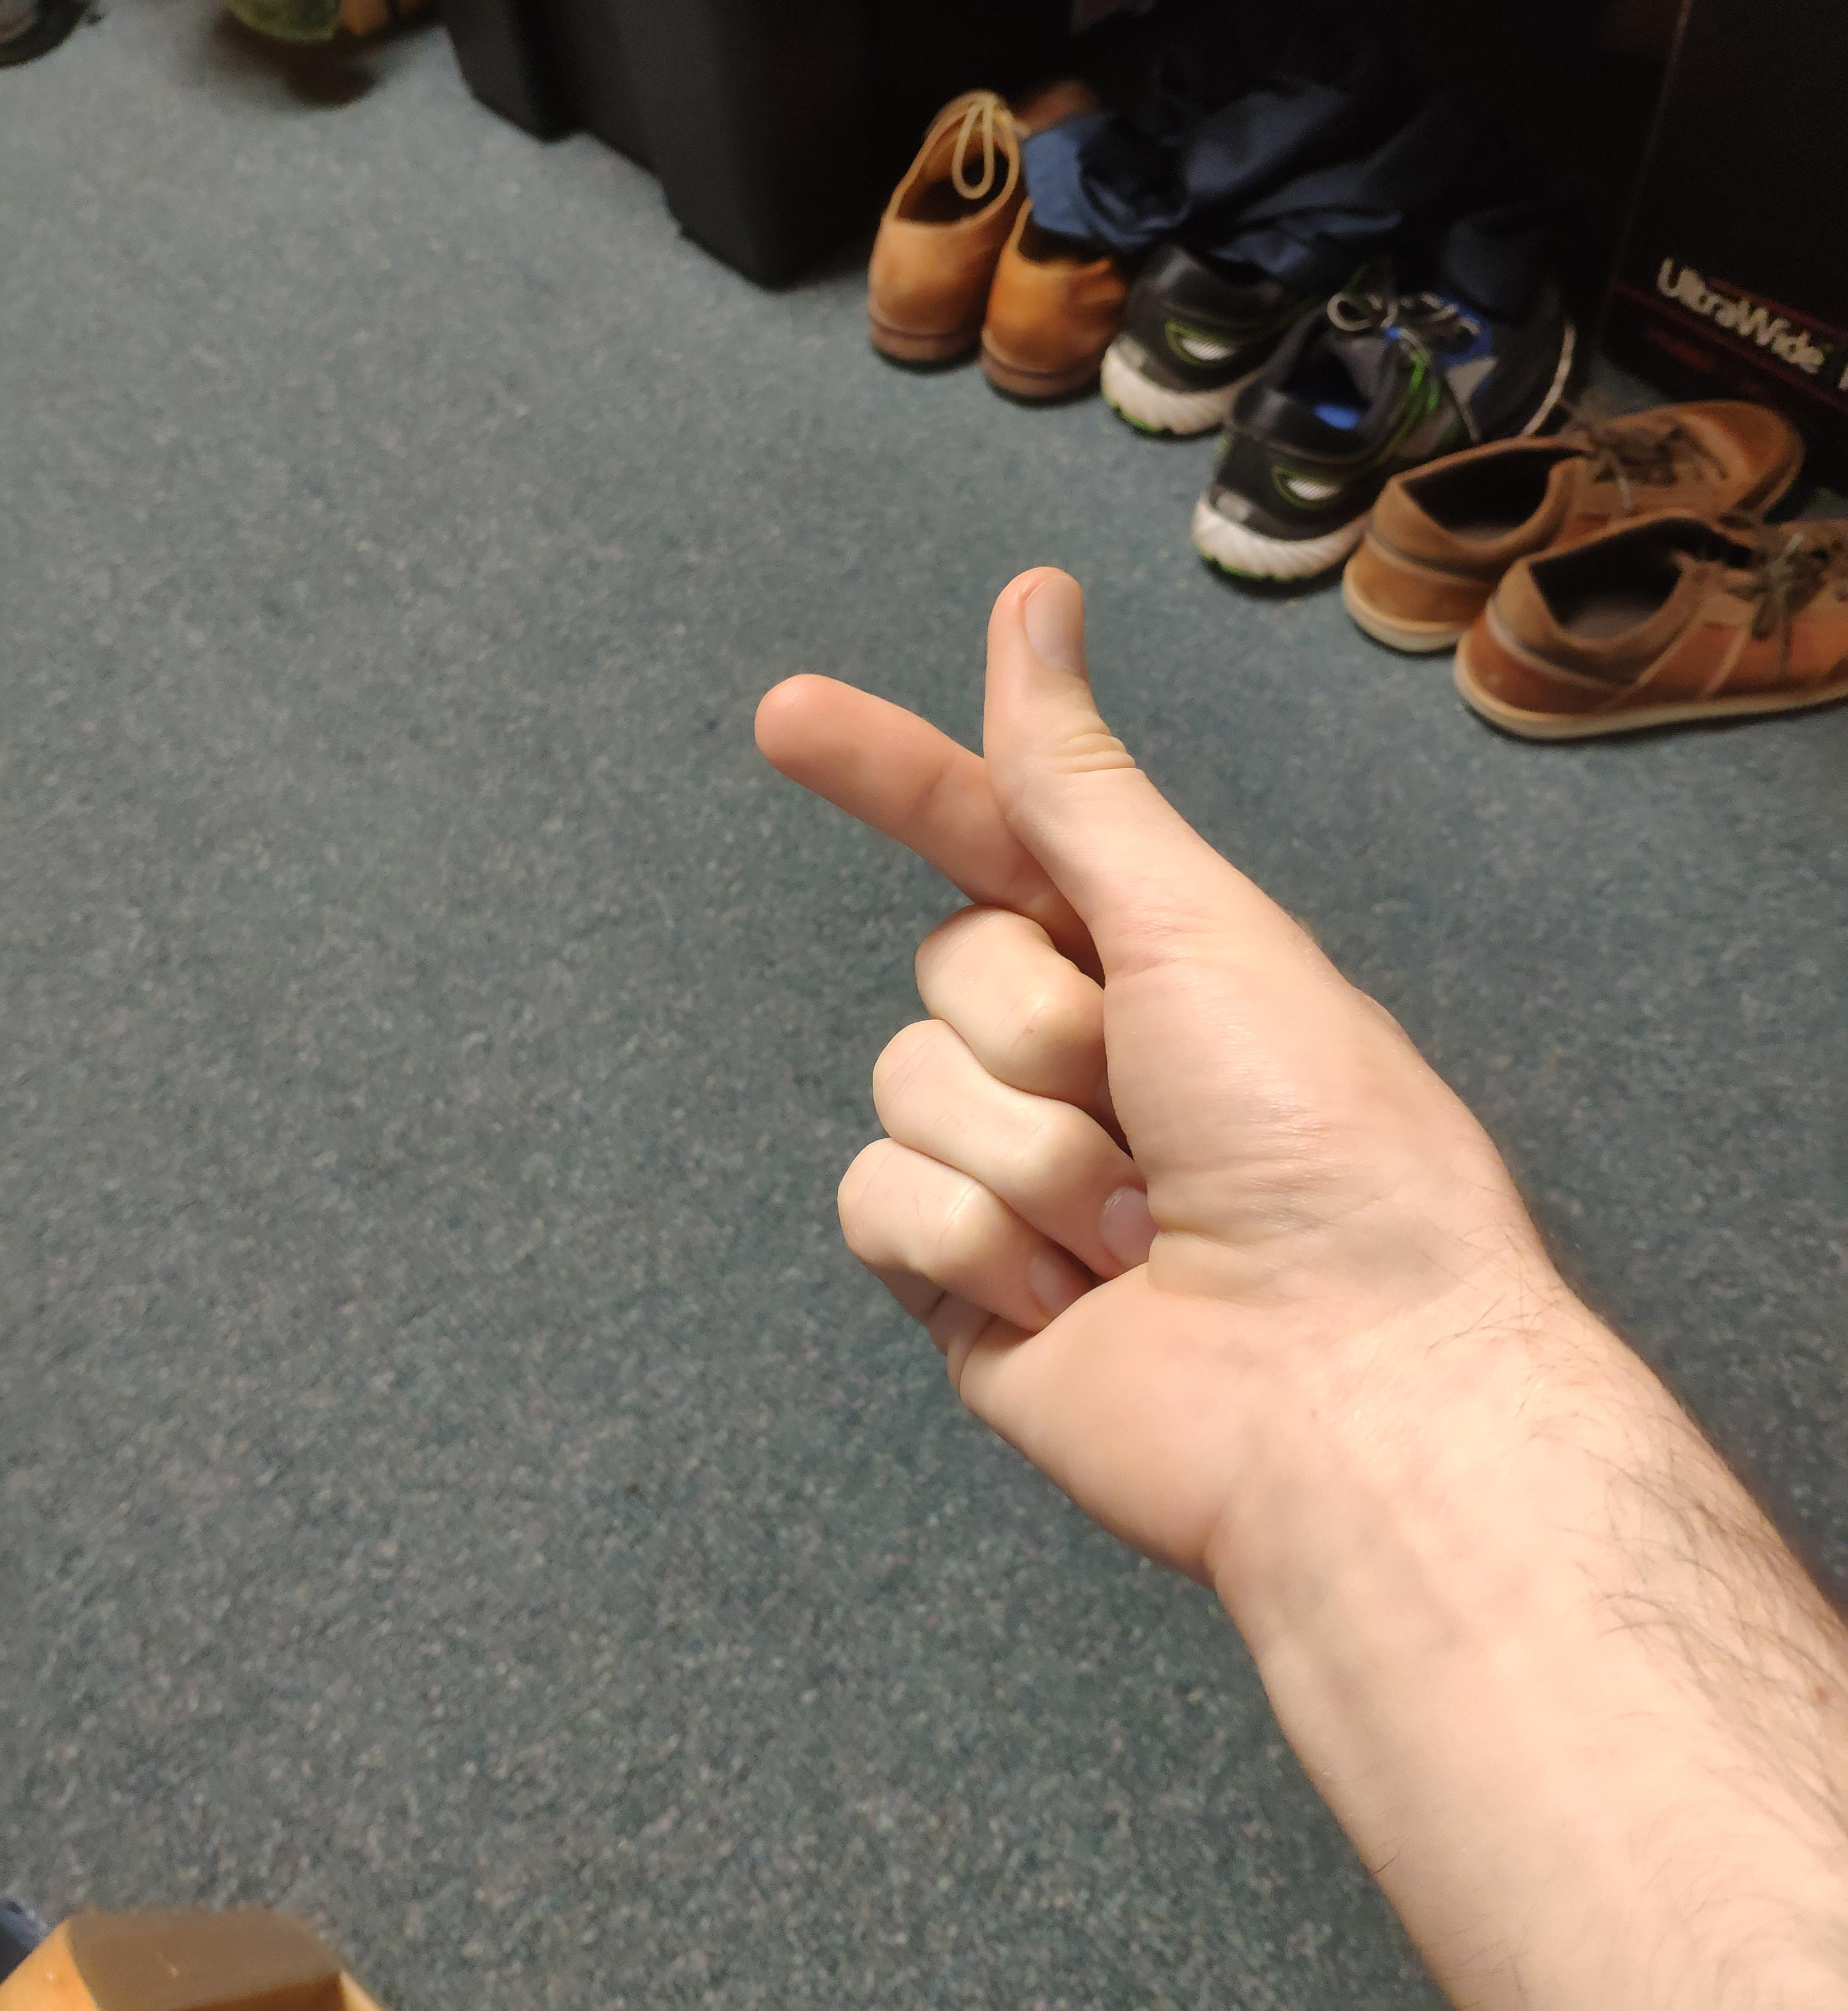heart gesture: (748, 550, 1146, 885)
